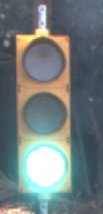Green: (10, 23, 83, 199)
